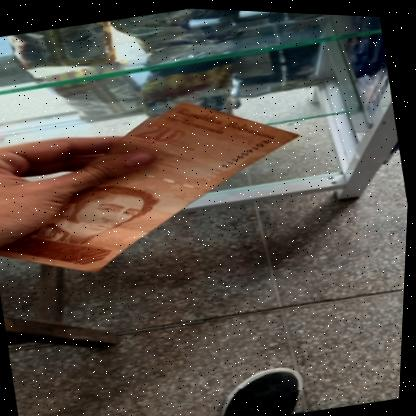twenty-front-vef: (0, 72, 321, 300)
